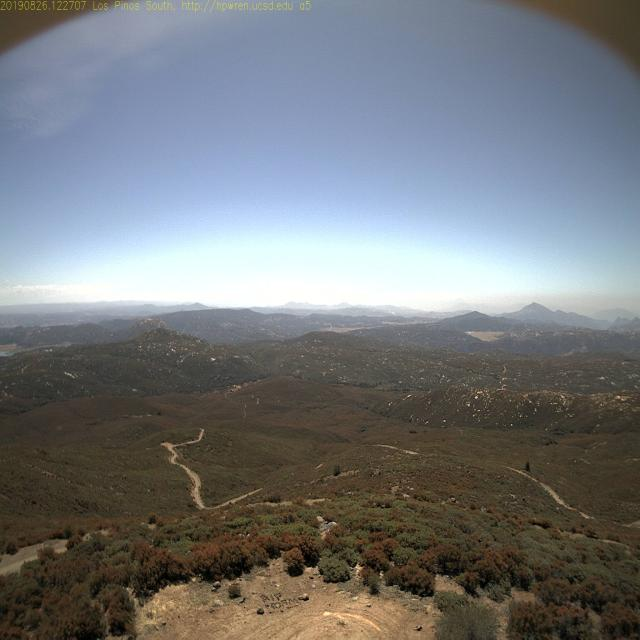smoke: (386, 306, 397, 317)
